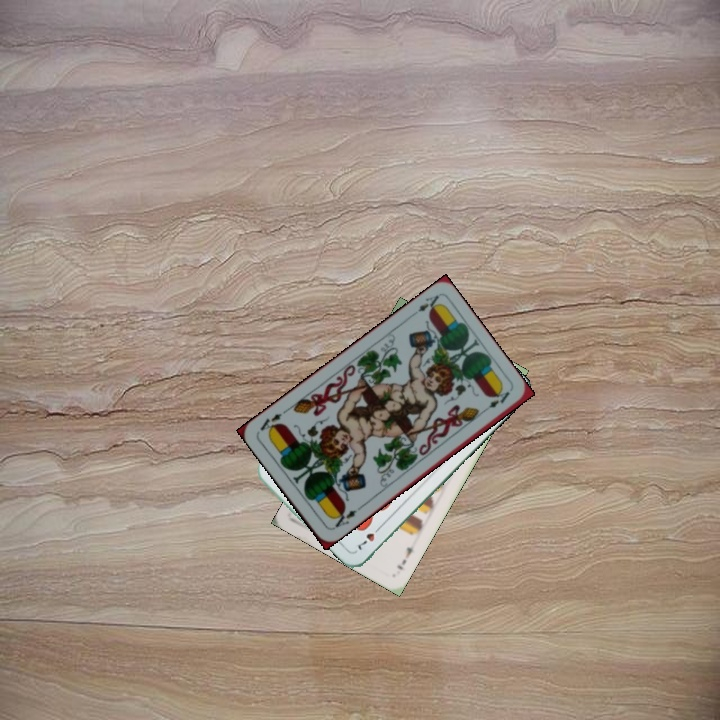E7: (393, 543, 415, 572)
EA: (406, 291, 444, 320), (329, 503, 364, 532)
H7: (353, 521, 385, 553)
